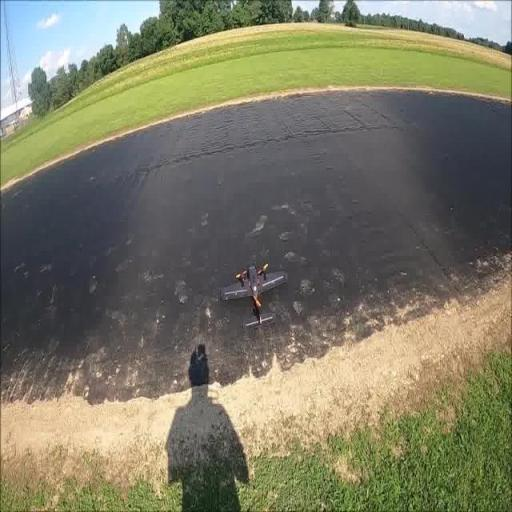uav: (218, 250, 288, 340)
